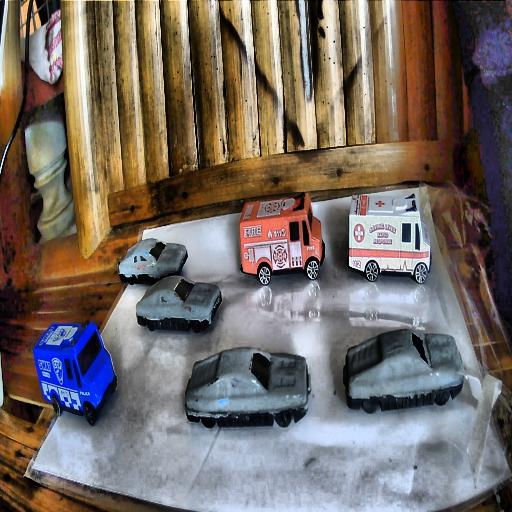ambulance: (346, 188, 432, 284)
fire_truck: (238, 191, 324, 283)
normal_car: (342, 328, 464, 412), (186, 347, 308, 429), (135, 274, 221, 335), (119, 237, 189, 287)
police car: (34, 319, 118, 426)
